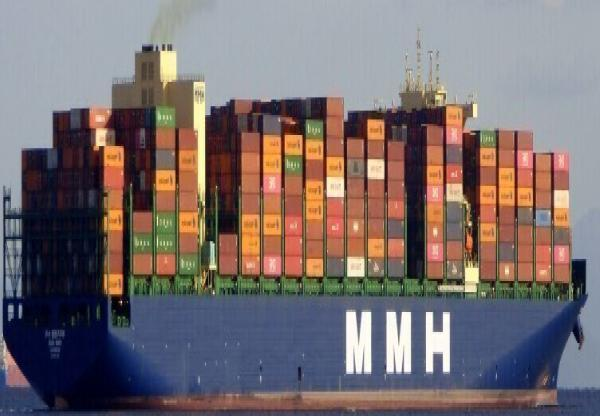Container Ship: (1, 29, 589, 413)
